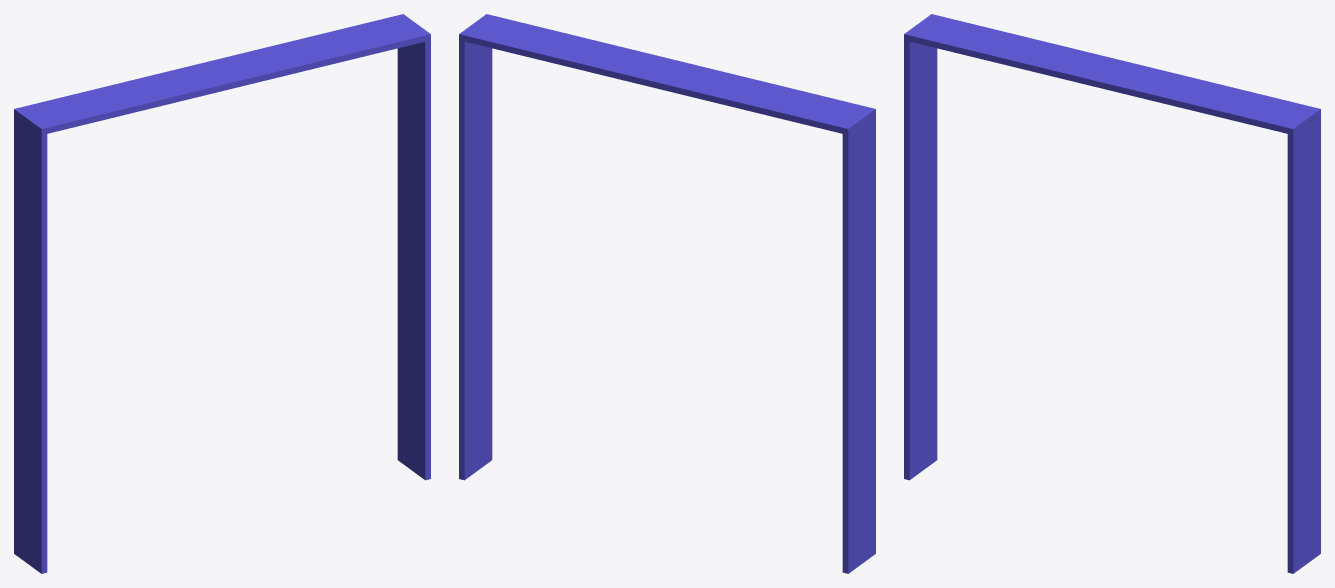
File: molbert 1.fbx
The picture shows the model from 3 angles, left to right: view 1: azimuth 30°, elevation 25°; view 2: azimuth 150°, elevation 25°; view 3: azimuth 330°, elevation 25°; orthographic projection.
Visible parts, largest first — view 1: molbert; view 2: molbert; view 3: molbert.
Part boxes in pixels (box(x1,y1,x2,y2)): molbert: box(14, 14, 430, 573); molbert: box(459, 14, 875, 573); molbert: box(904, 14, 1320, 573).
Bounding box in the file's own units: 639 × 698 × 78.28.
